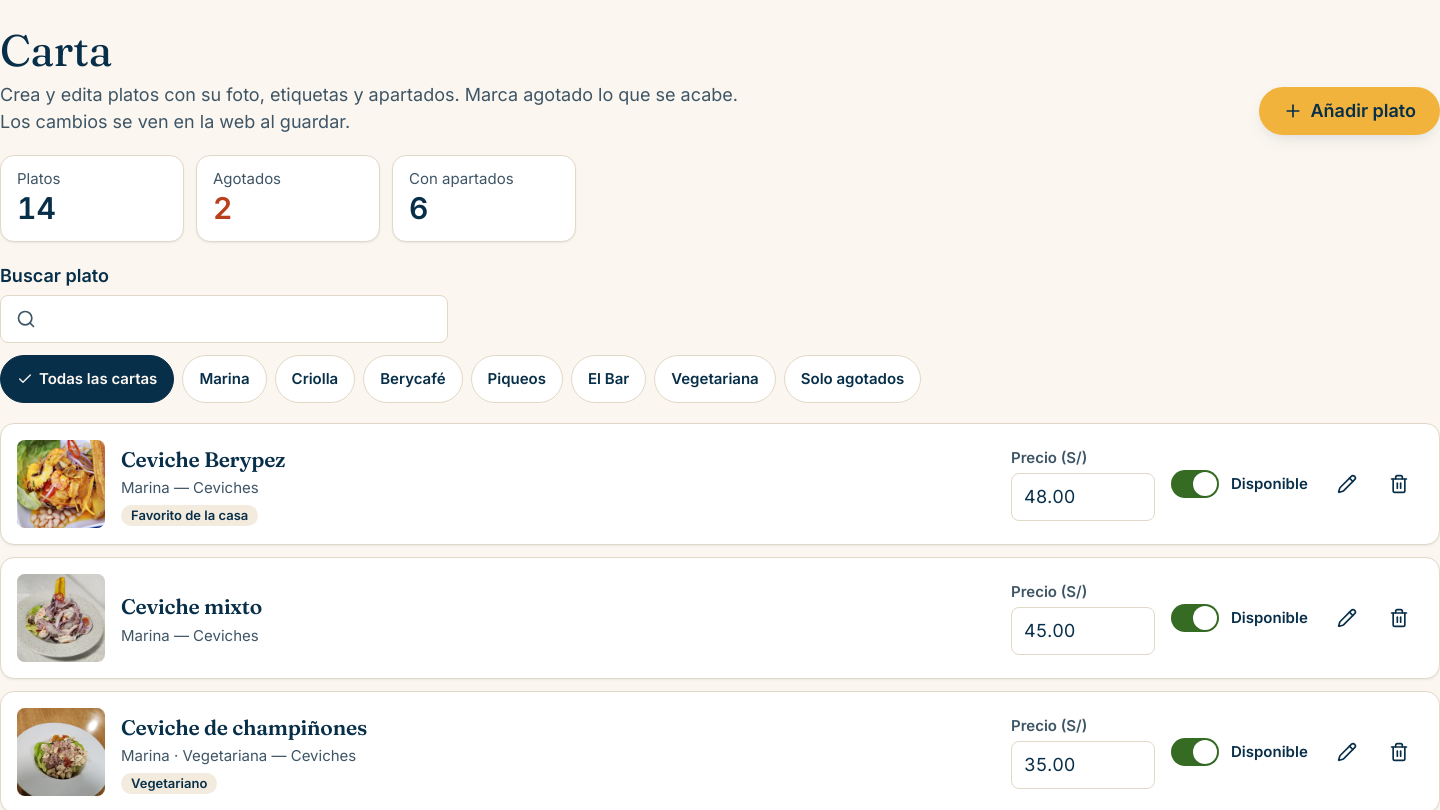
Scenario: LiveCartaManager › si el servidor rechaza el plato, el formulario queda abierto con el motivo
The width and height of the screenshot is (1440, 810).
Click the button named "Editar Ceviche Berypez" at (1347, 484), box [1323,460,1371,508]
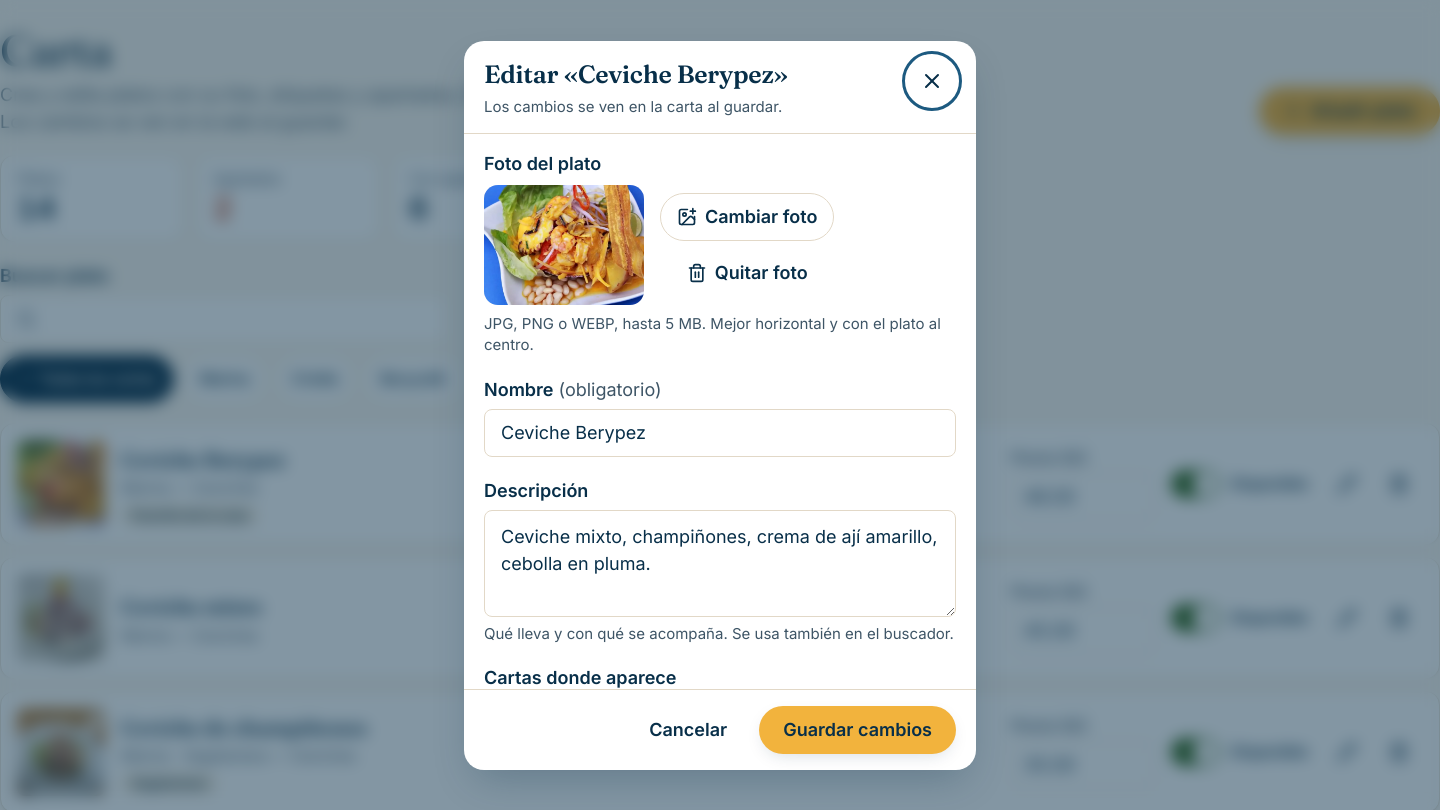
Click the button "Guardar cambios" at (858, 730), box [759,706,956,754]
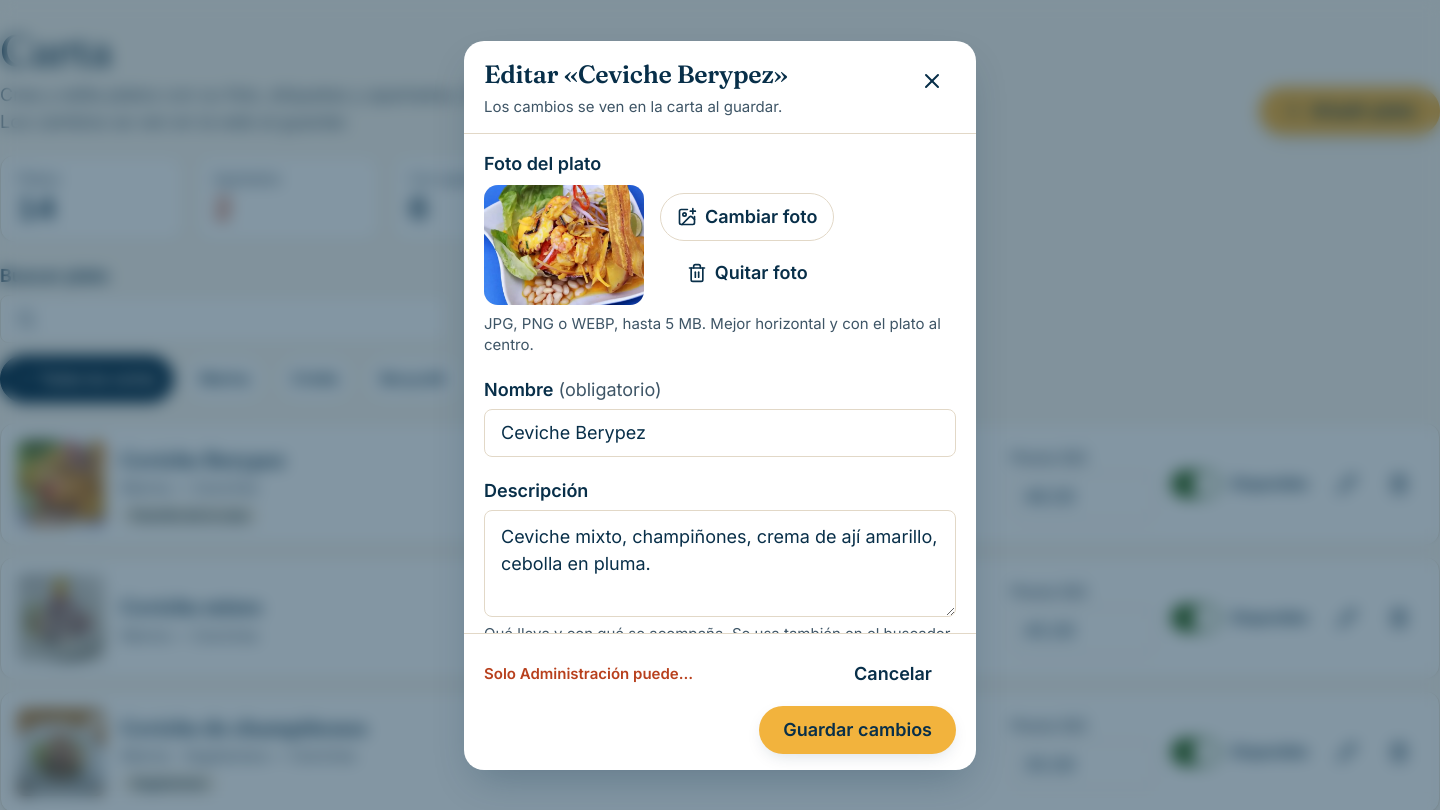
Result: the message reads "Solo Administración puede…" at [484,664,693,683]
